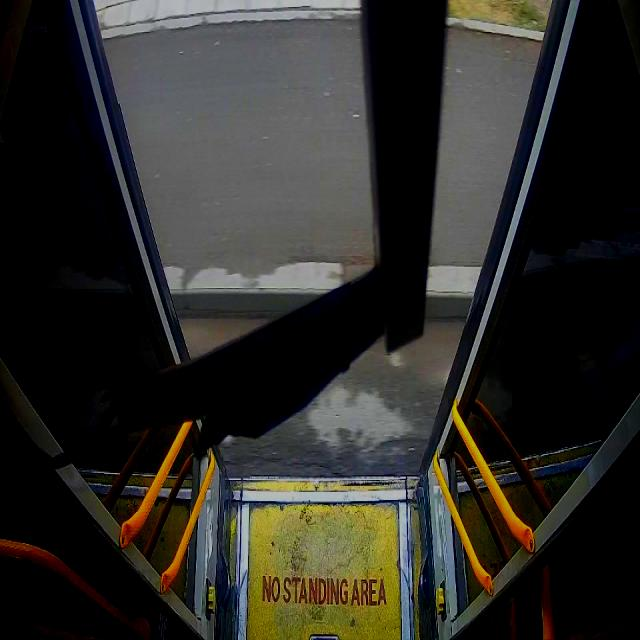open: (77, 1, 579, 487)
